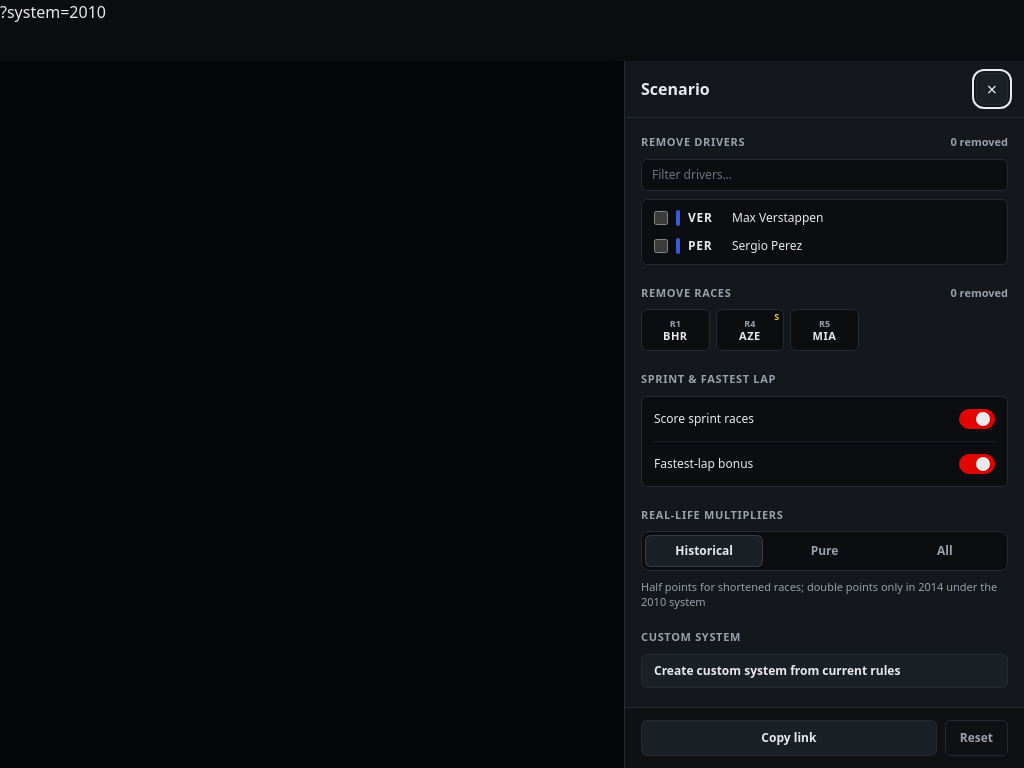
ScenarioPanel › writes preset= to the URL when changing real-life multipliers
Click the button "Pure": click(824, 551) [765,535,884,567]
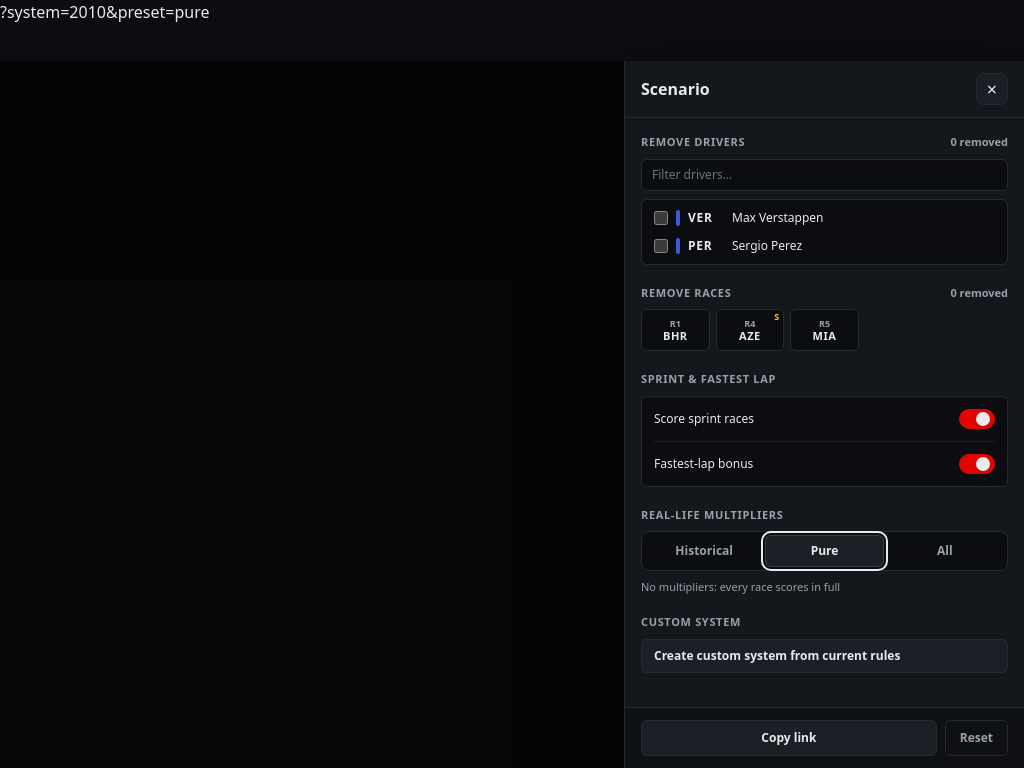
Now the text "No multipliers: every race scores in full" is shown, box [641,579,840,594]
